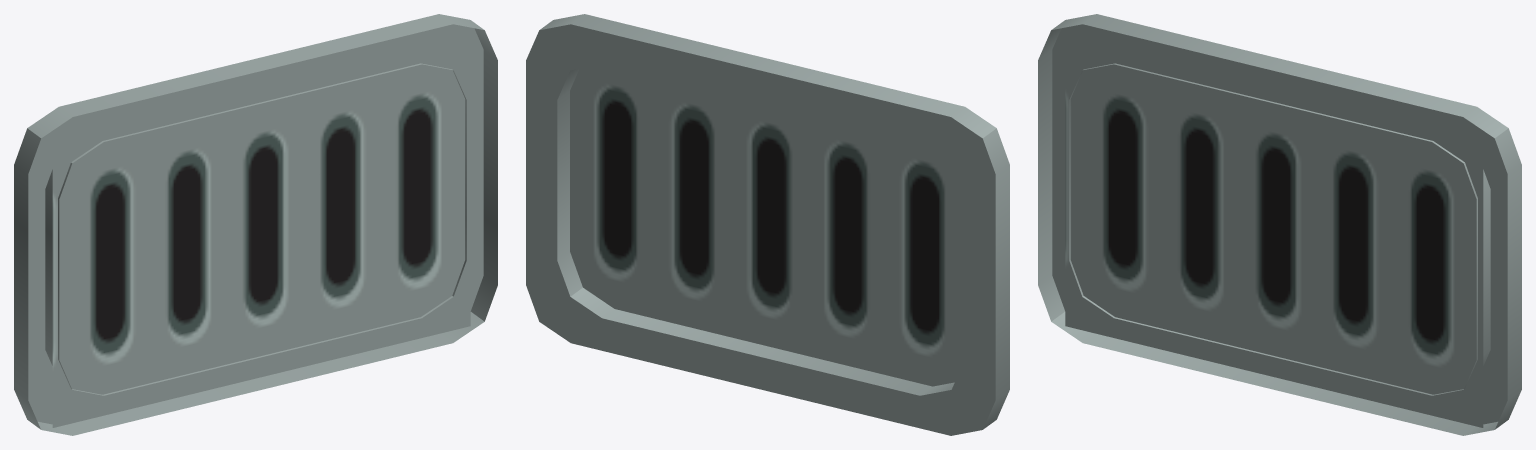
The model's file is Grate_geo.fbx.
3 views of the same model, side by side, from view 1: azimuth 30°, elevation 25°; view 2: azimuth 150°, elevation 25°; view 3: azimuth 330°, elevation 25° (orthographic).
Parts seen in each view (by area): view 1: Grate_geo; view 2: Grate_geo; view 3: Grate_geo.
Boxes of the visible parts, x1,y1,x2,y2 form: Grate_geo: (14,14,497,435); Grate_geo: (526,14,1009,435); Grate_geo: (1038,14,1521,435).
Bounding box in the file's own units: 0.7687 × 0.0398 × 0.4988.
